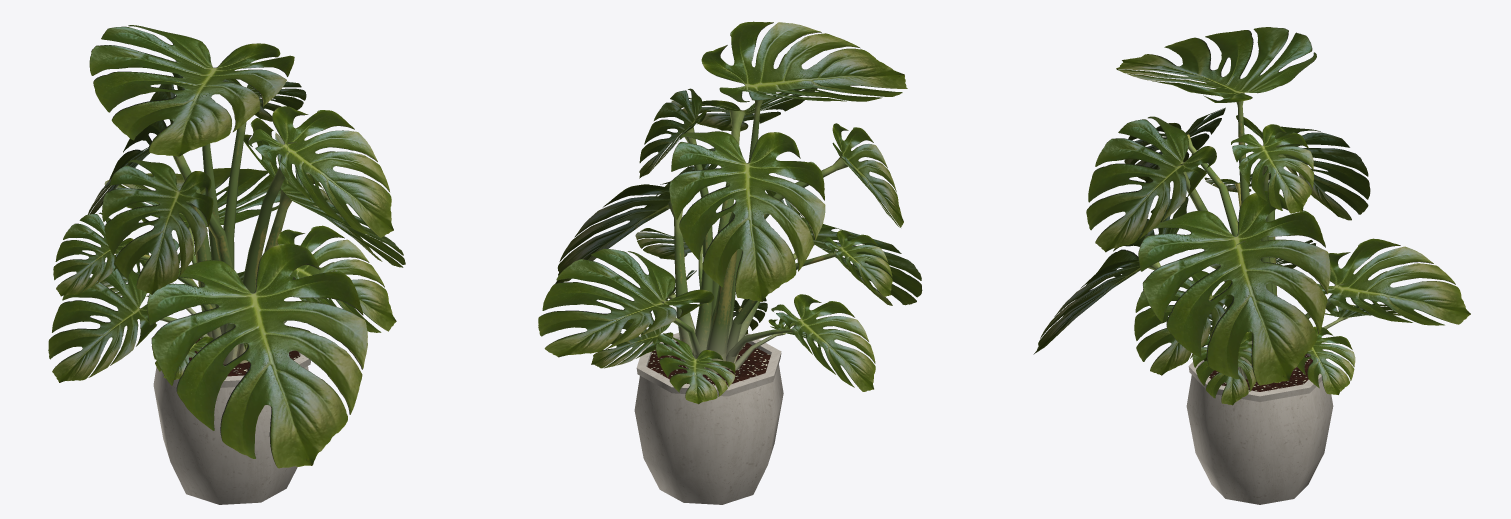
Rendered from monstera.glb.
3 views of the same model, side by side, from view 1: azimuth 30°, elevation 25°; view 2: azimuth 150°, elevation 25°; view 3: azimuth 270°, elevation 25° (orthographic). The views are drawn at different scales.
Parts seen in each view (by area): view 1: monstera_geo; view 2: monstera_geo; view 3: monstera_geo.
Part boxes in pixels (x1,y1,x2,y2): monstera_geo: [48, 25, 405, 504]; monstera_geo: [538, 21, 922, 504]; monstera_geo: [1033, 27, 1470, 504].
Size of the model in its own units: 0.9015 by 1.03 by 1.13.
Materials: 1 (1 with a texture image).
